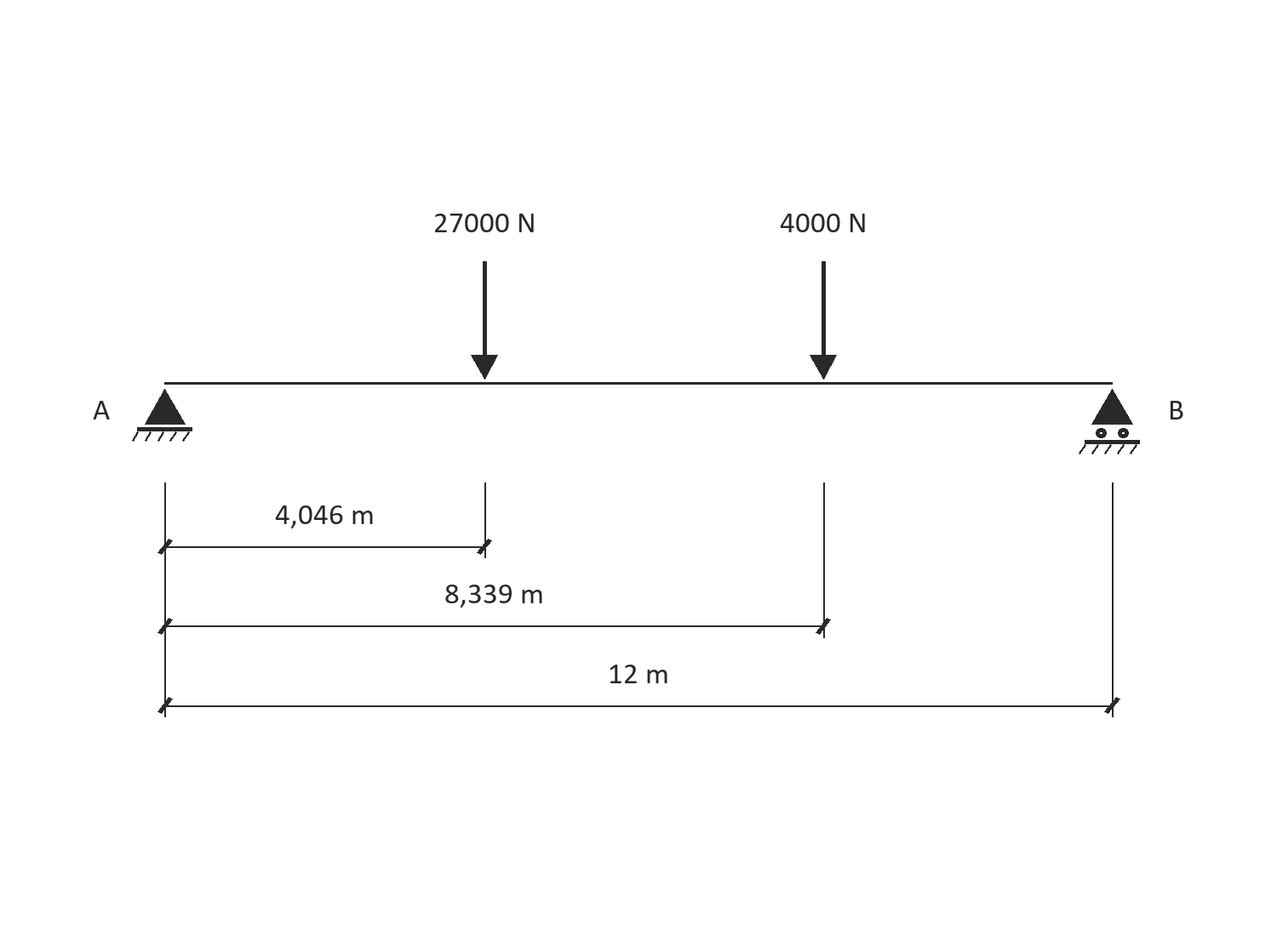pin_support: (132, 389, 192, 442)
point_load: (471, 261, 498, 380), (810, 261, 837, 380)
roller_support: (1079, 389, 1140, 454)
